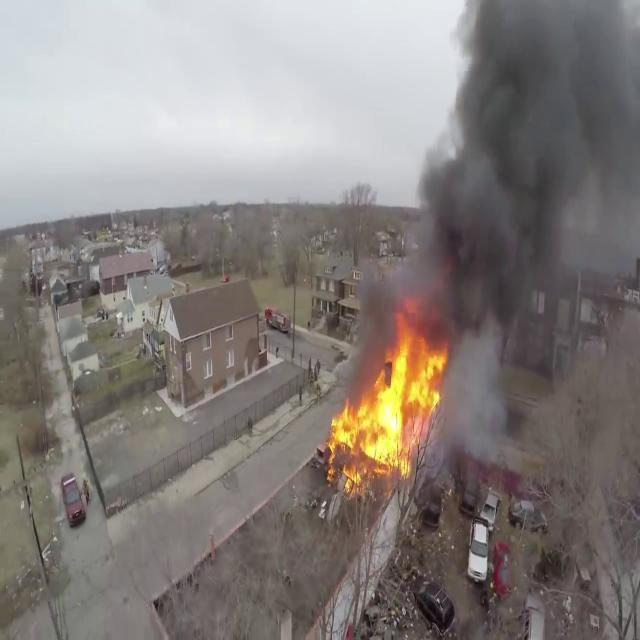Fire: (323, 319, 451, 482)
Smoke: (402, 0, 639, 356)
